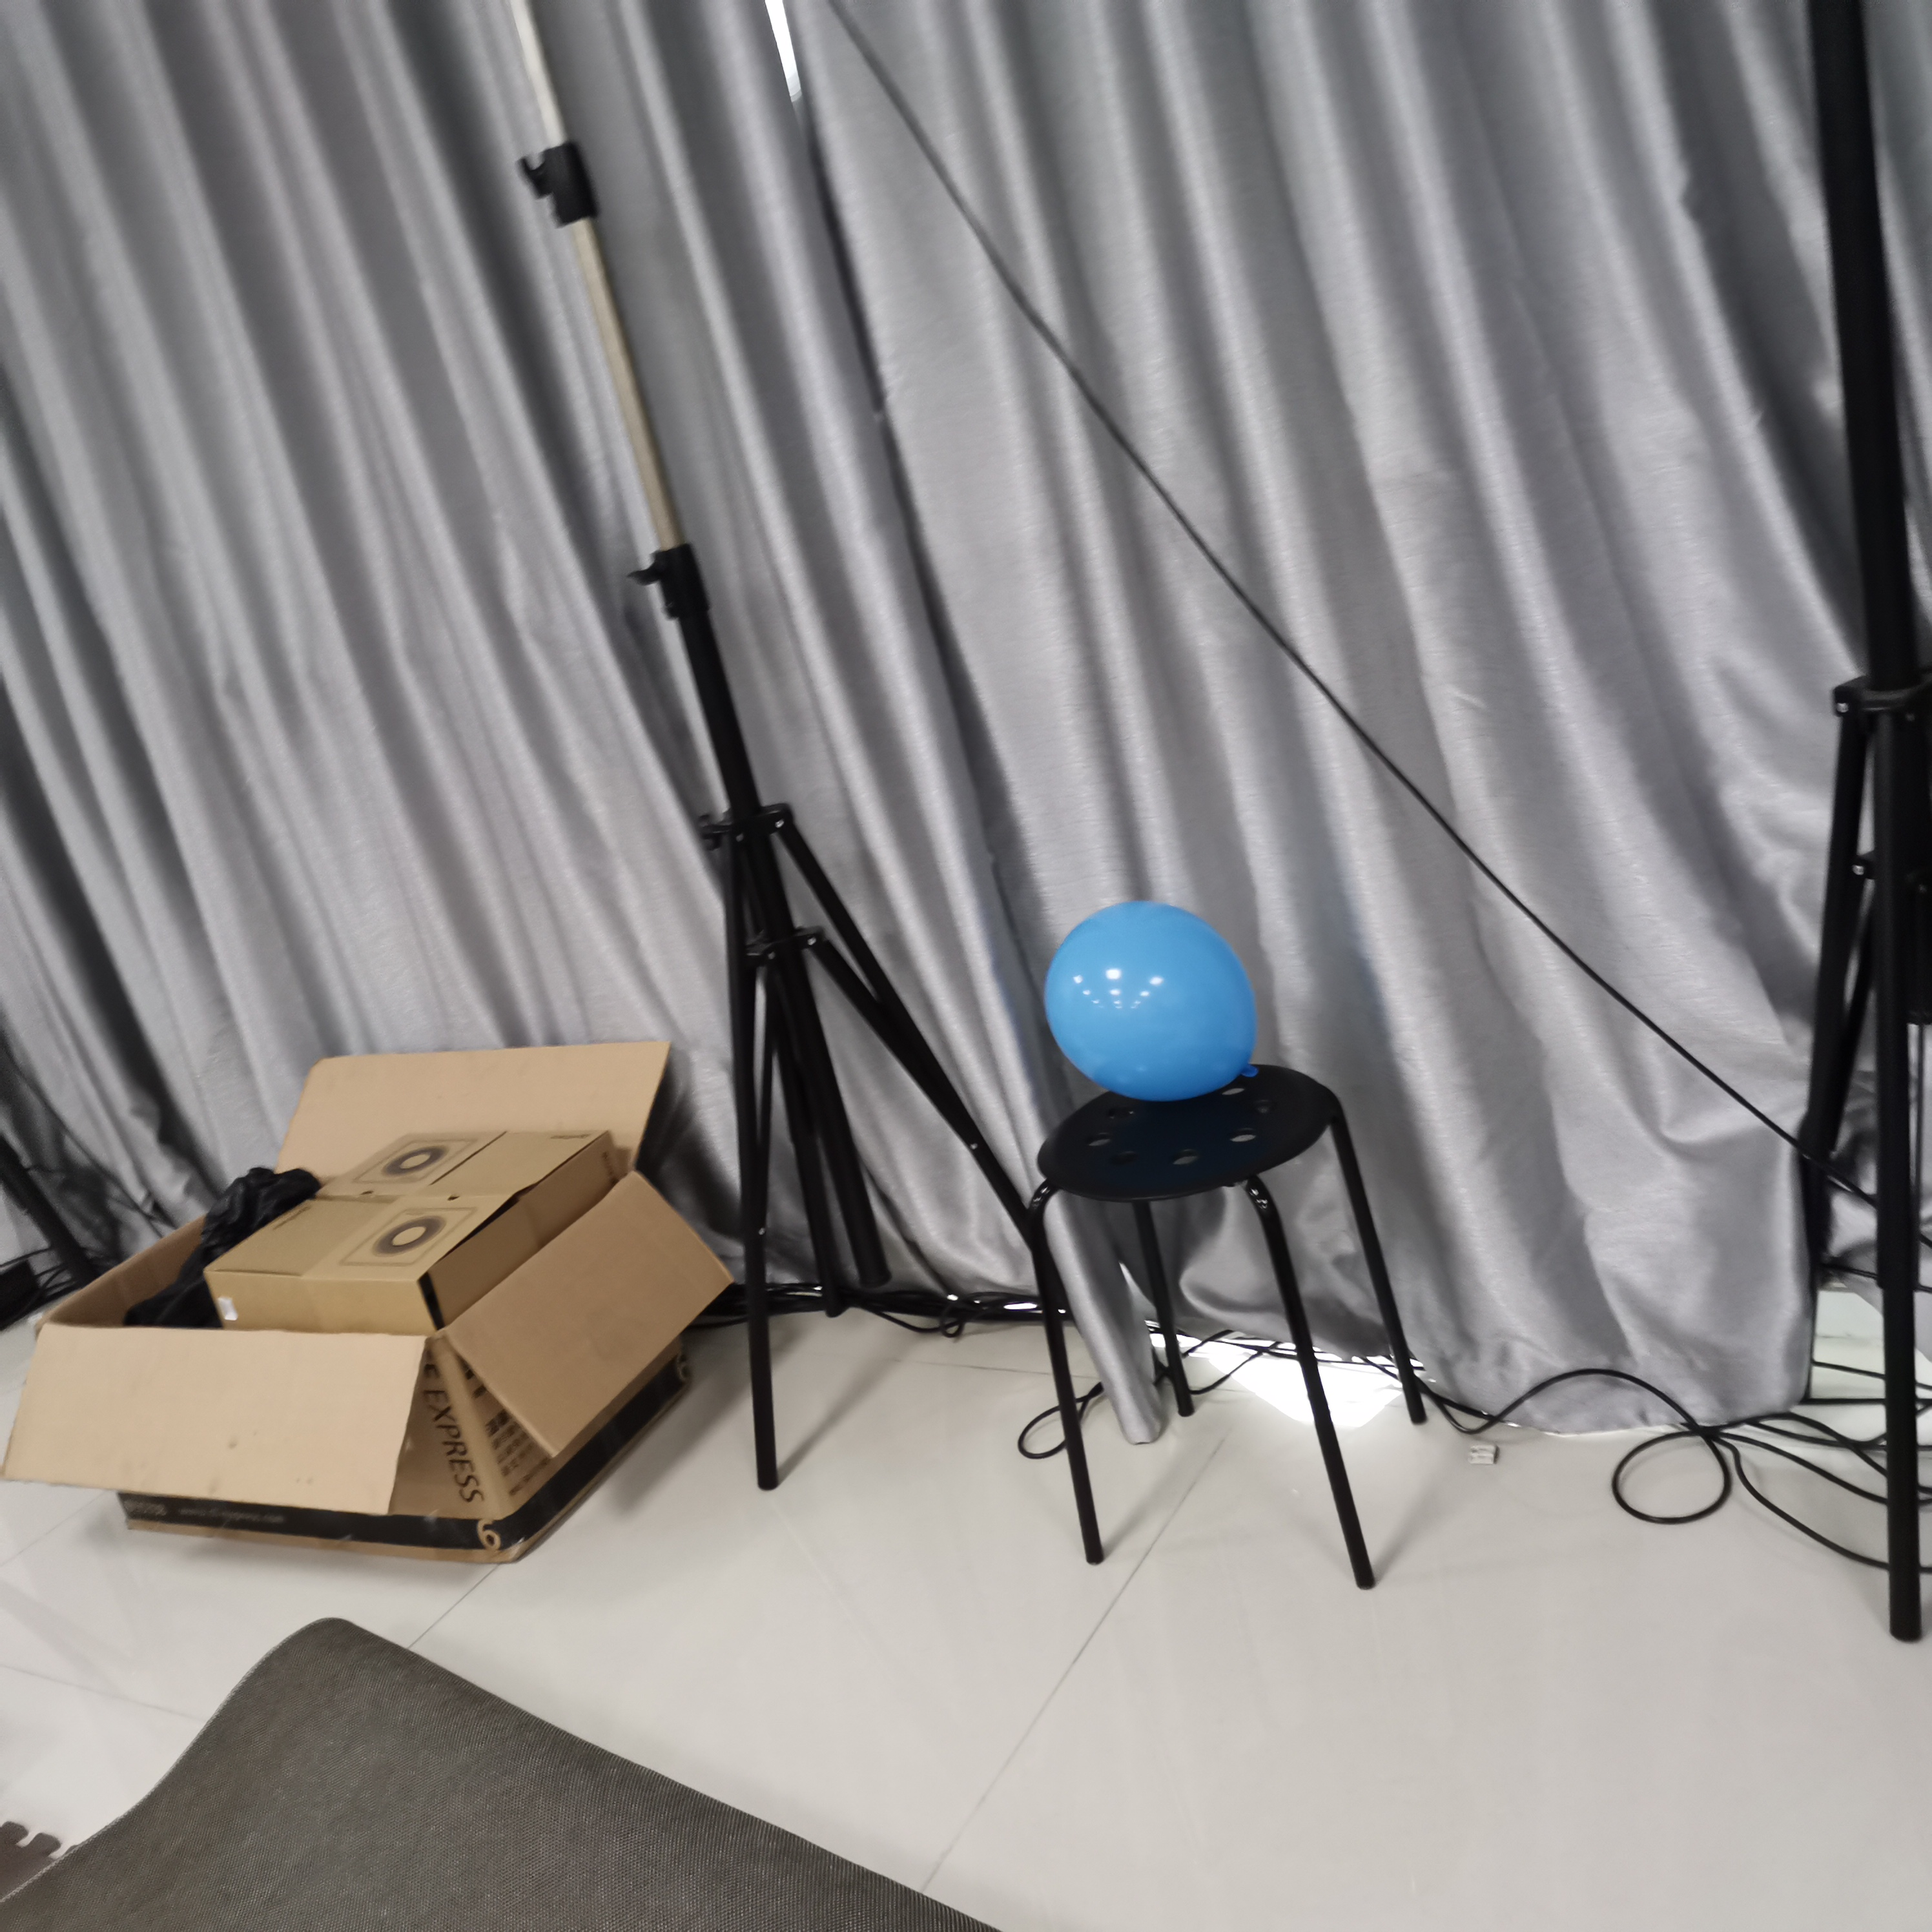balloon: (1044, 897, 1258, 1104)
